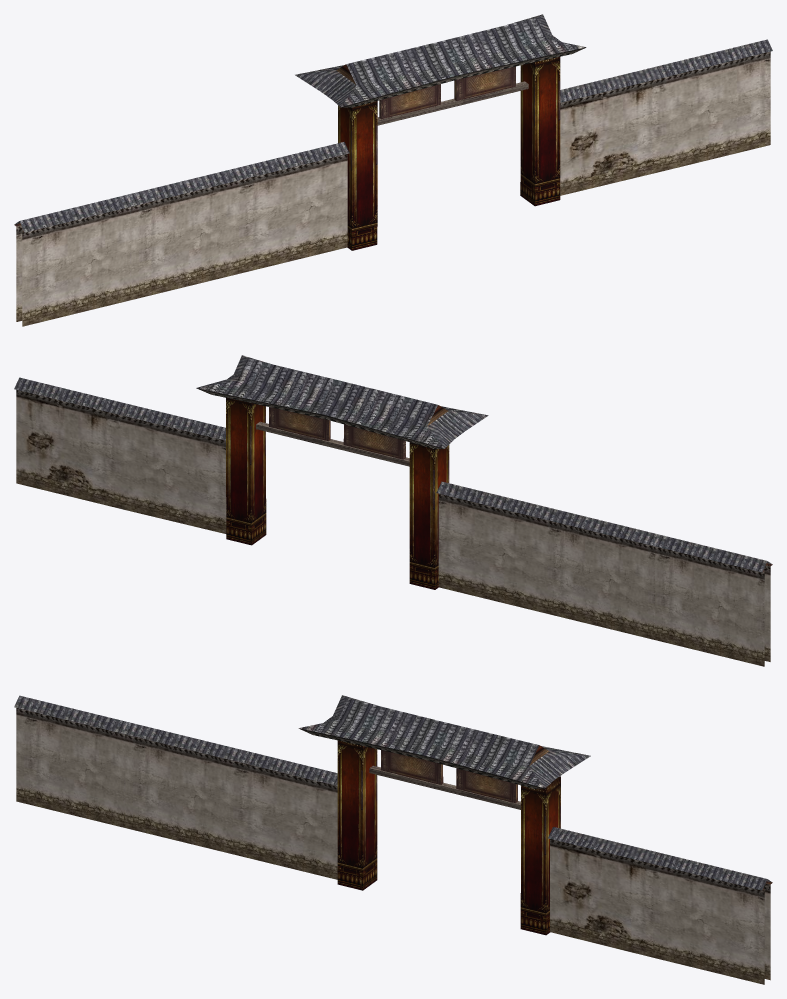
The model's file is pai1.obj.
3 renders of one model, top to bottom at view 1: azimuth 30°, elevation 25°; view 2: azimuth 150°, elevation 25°; view 3: azimuth 330°, elevation 25°, orthographic.
Parts seen in each view (by area): view 1: pai1; view 2: pai1; view 3: pai1.
Part boxes in pixels (<box>): pai1: <box>14,14,772,326</box>; pai1: <box>14,355,772,666</box>; pai1: <box>14,695,772,984</box>.
Bounding box in the file's own units: 756 × 174 × 79.
